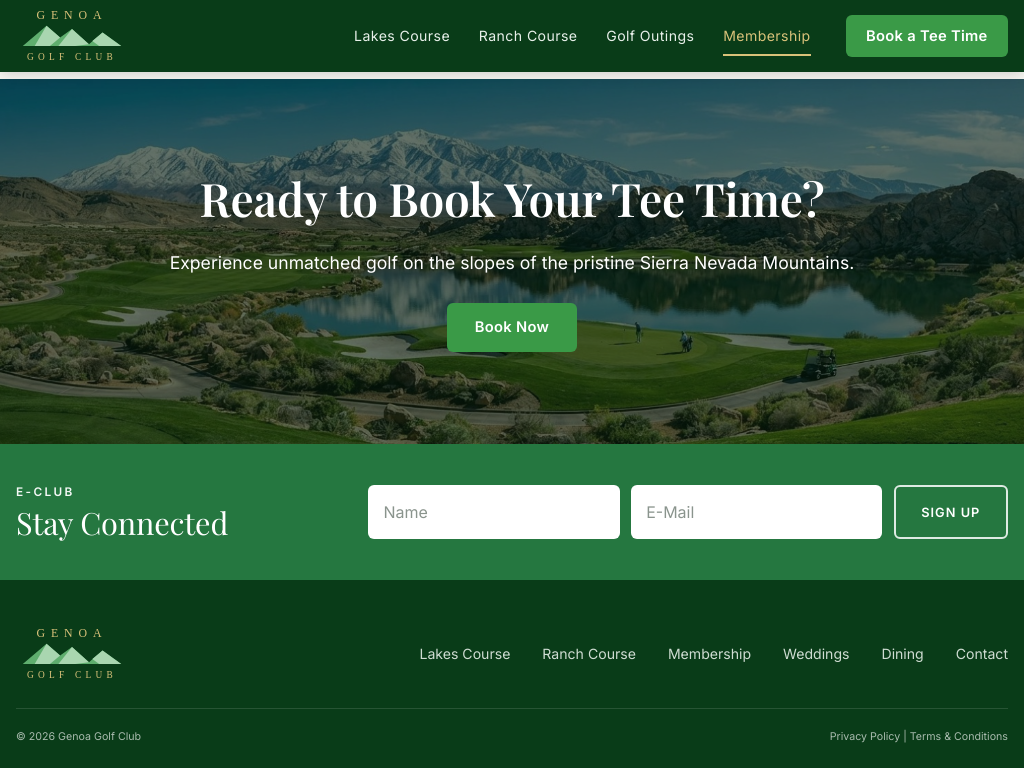
E-Club band › rejects a bad email and accepts a good one
(page scrolled)
Type "bad" into the field labelled "E-Mail". click: point(757, 512)
box: [631,485,882,539]
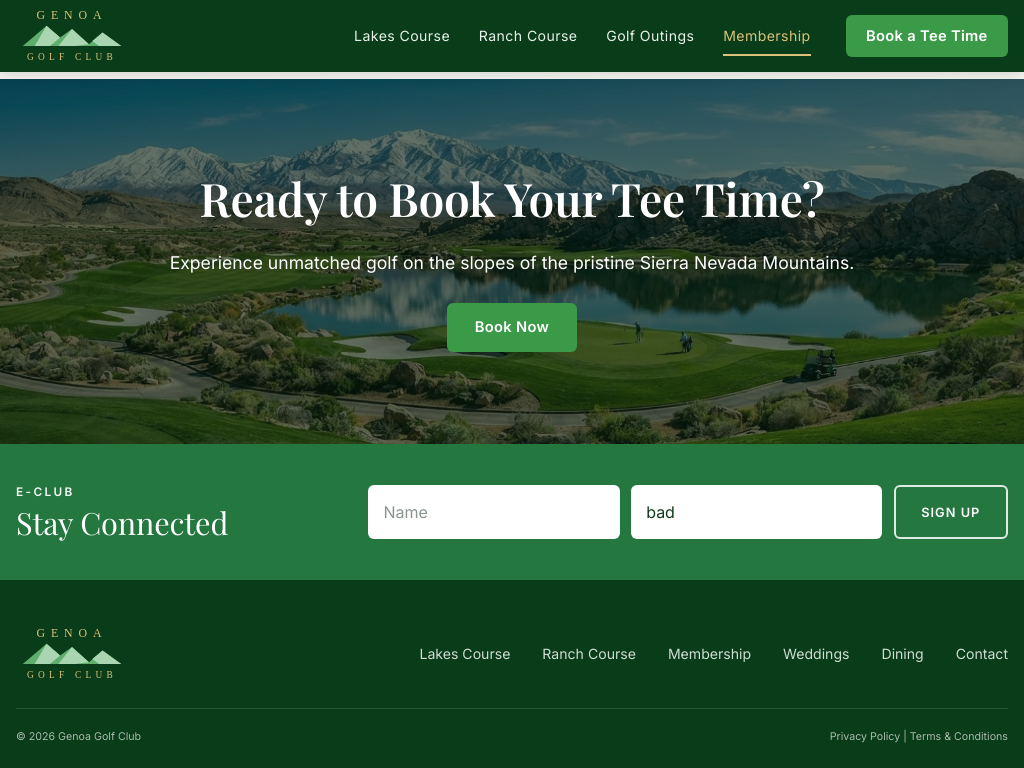
Click the button "Sign Up". click: point(951, 512)
box: [894,485,1008,539]
(page scrolled)
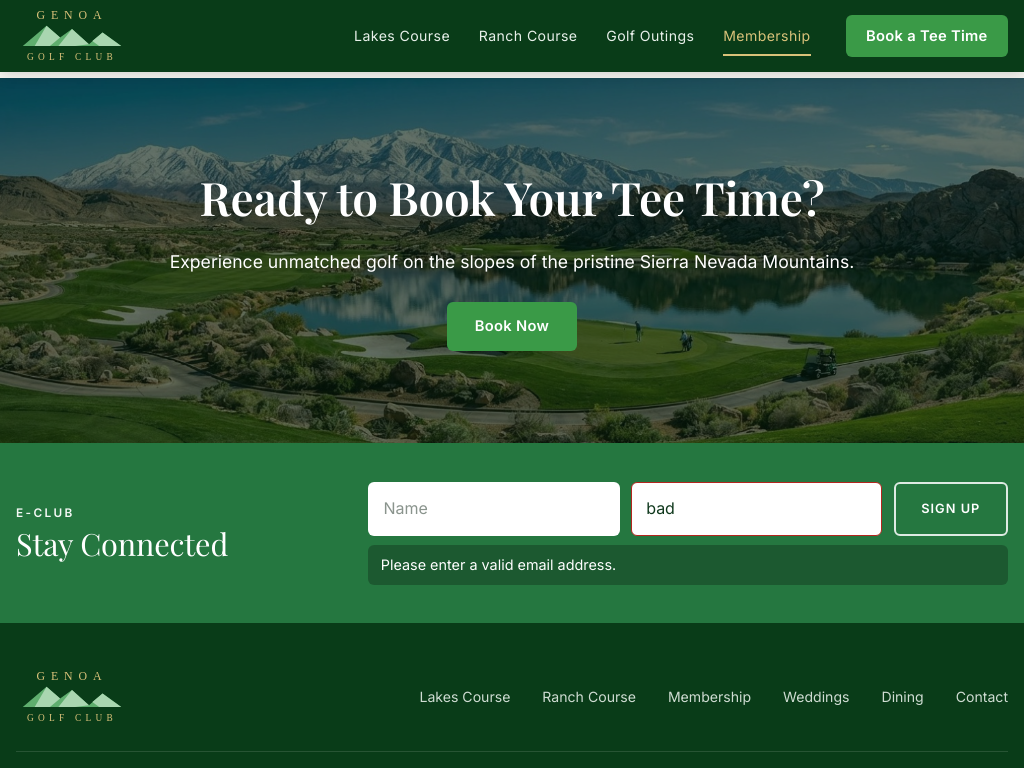
Expected: the message shows "valid email", [381,556,616,573]
Type "Sai Lohith" into the field labelled "Name". click: point(494, 508)
box: [368,482,620,536]
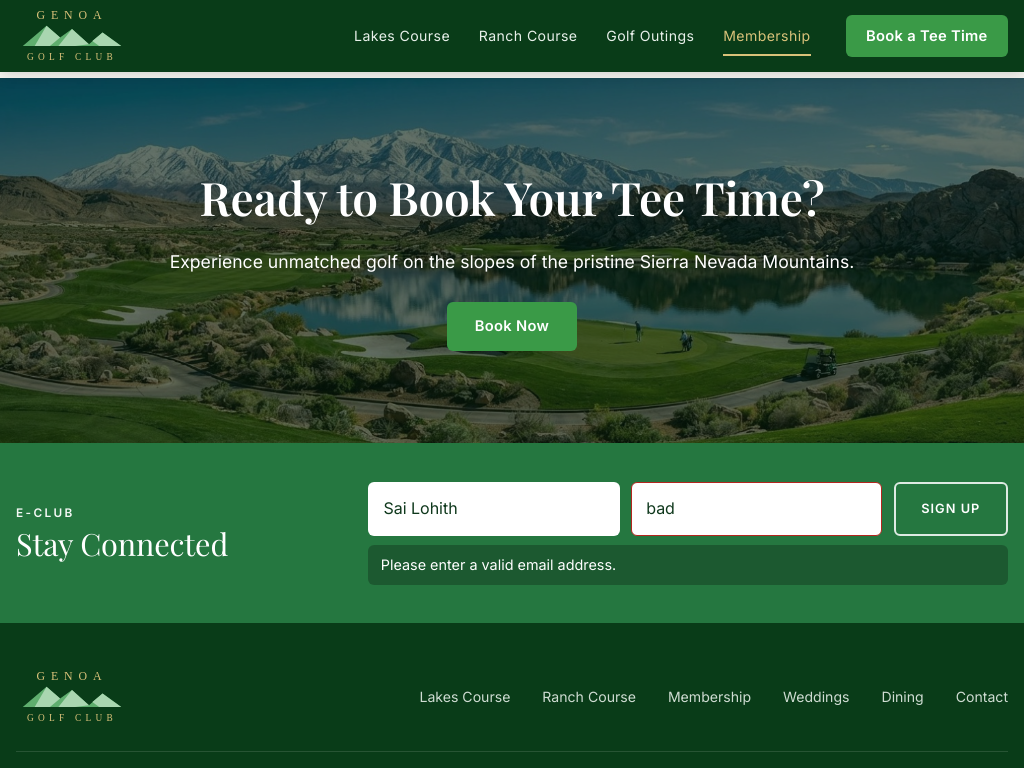
Replace the text in the 2nd field named "E-Mail" with "a@b.co". click: point(757, 508)
box: [631,482,882,536]
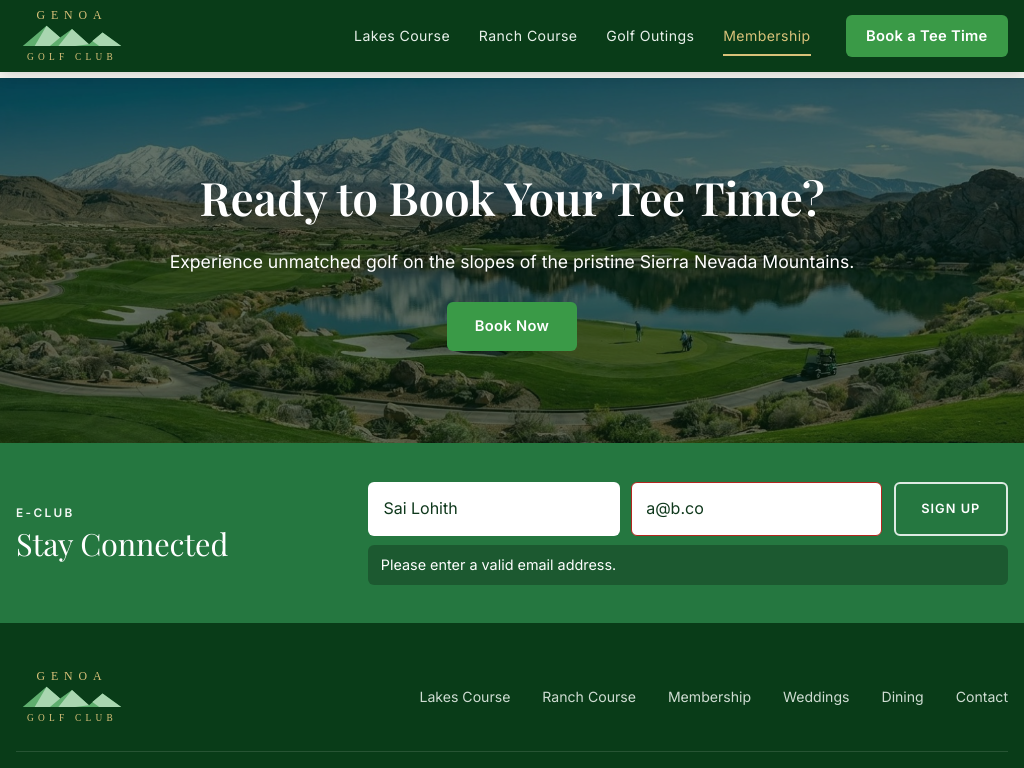
Click the button "Sign Up". click: point(951, 508)
box: [894,482,1008,536]
(page scrolled)
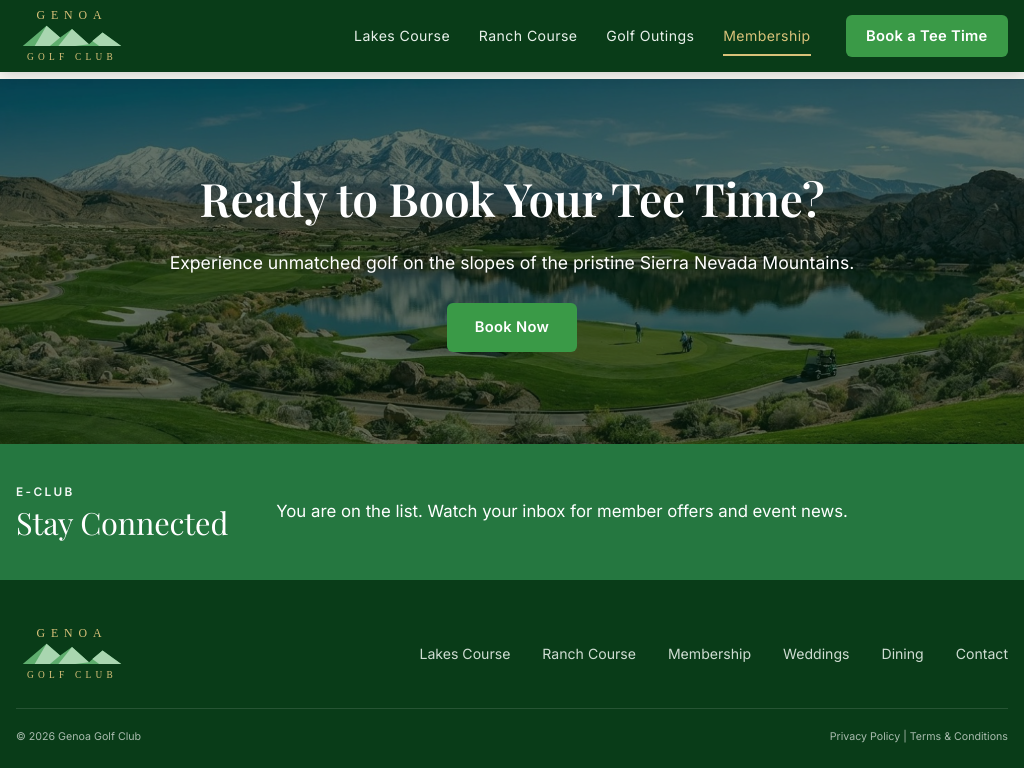
Expected: the message shows "on the list", [276,501,848,521]
